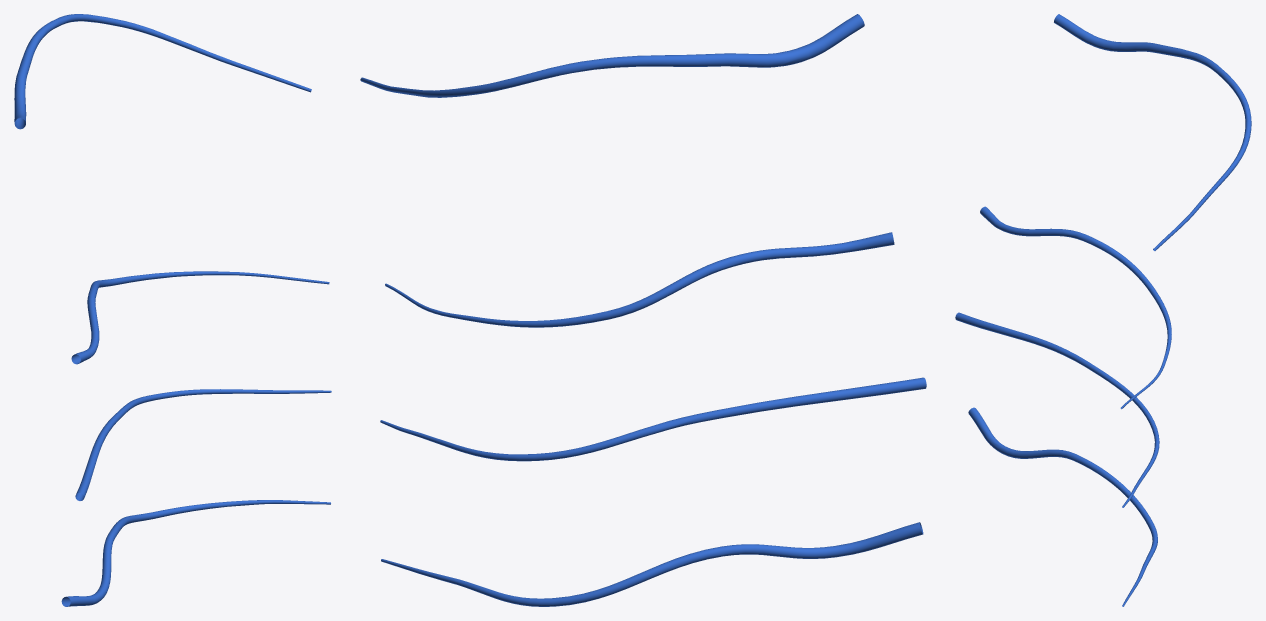
File: circulatorio-lumbar-veins-l.glb
3 renders of one model, left to right at view 1: azimuth 30°, elevation 25°; view 2: azimuth 150°, elevation 25°; view 3: azimuth 270°, elevation 25°, orthographic. The views are drawn at different scales.
Visible parts, largest first — view 1: Lumbar veins.l; view 2: Lumbar veins.l; view 3: Lumbar veins.l.
Part boxes in pixels (x1,y1,x2,y2): Lumbar veins.l: (14, 14, 331, 606); Lumbar veins.l: (360, 14, 926, 606); Lumbar veins.l: (955, 14, 1251, 606).
Bounding box in the file's own units: 0.0705 × 0.0953 × 0.0577.
